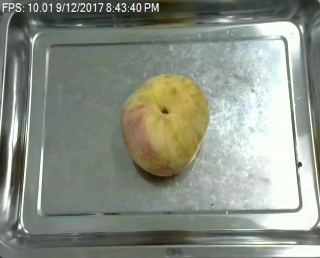Peach: (121, 72, 209, 176)
